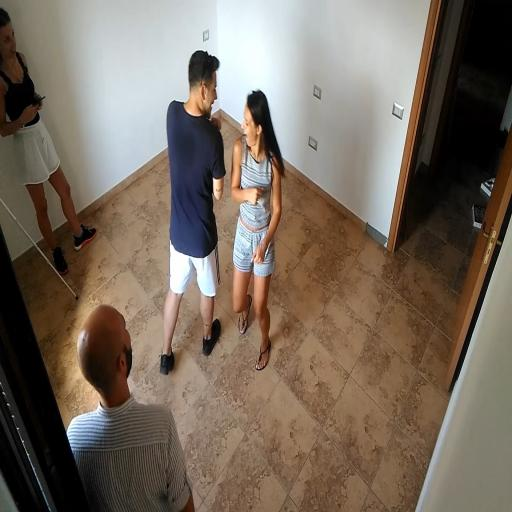nao-violencia: (139, 25, 296, 387)
